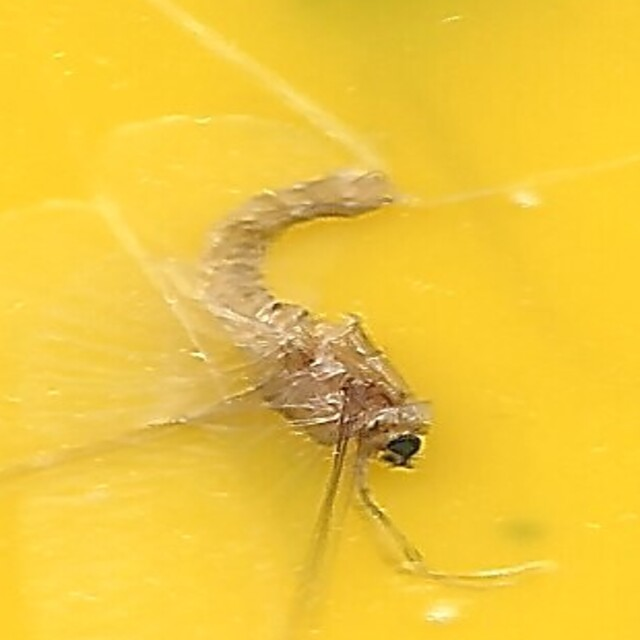Ephemeroptera: (206, 163, 434, 477)
